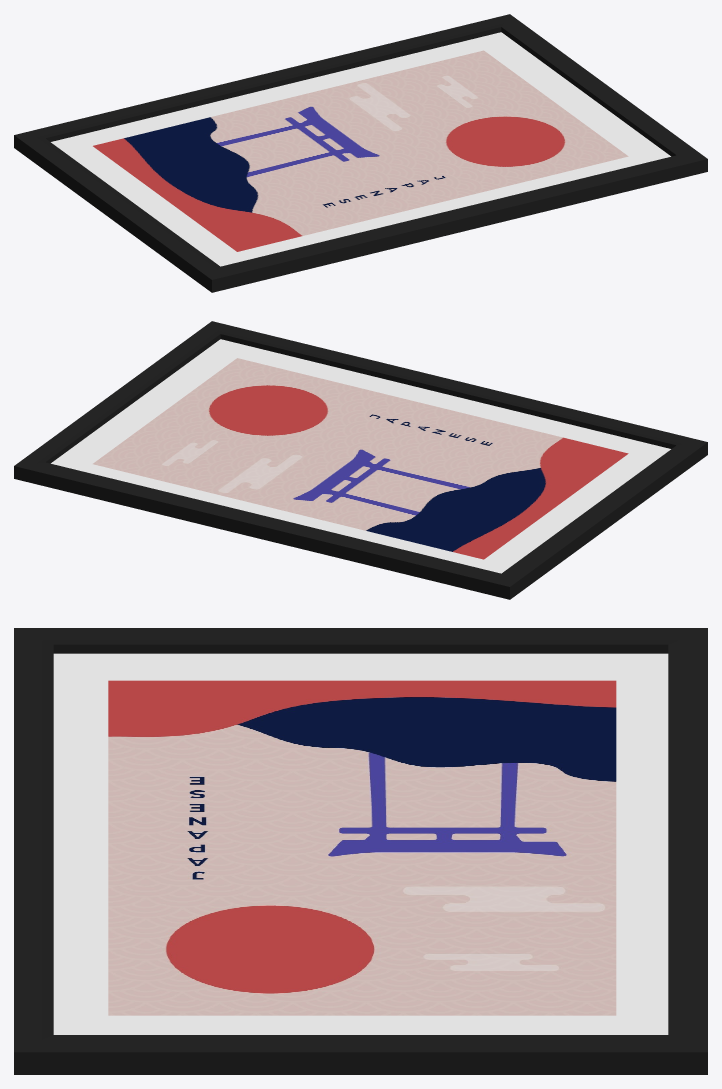
File: RAM2.fbx
3 renders of one model, top to bottom at view 1: azimuth 30°, elevation 25°; view 2: azimuth 150°, elevation 25°; view 3: azimuth 270°, elevation 25°, orthographic. The views are drawn at different scales.
Visible parts, largest first — view 1: 123; view 2: 123; view 3: 123.
Boxes of the visible parts, left/top/right/bottom form: 123: left=14, top=14, right=707, bottom=292; 123: left=14, top=321, right=707, bottom=599; 123: left=14, top=628, right=707, bottom=1074.
Size of the model in its own units: 347 by 8.93 by 240.
Materials: 3 (1 with a texture image).
